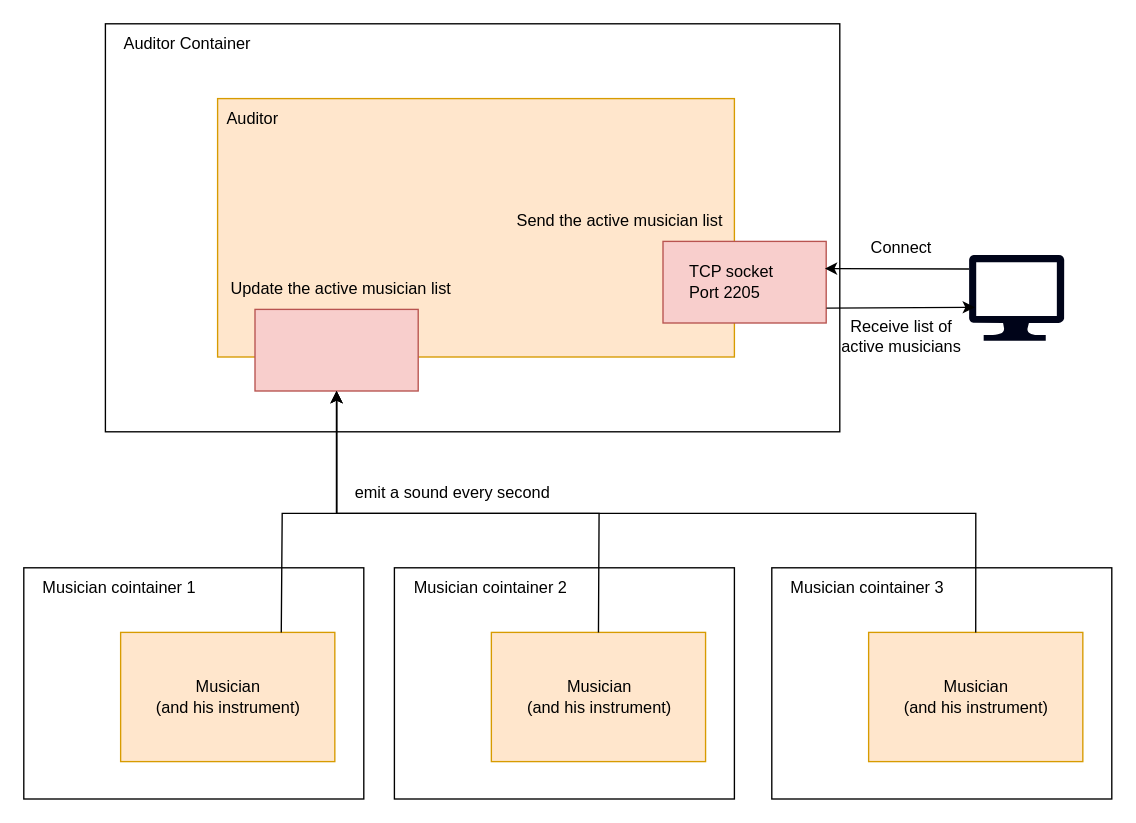
This 1136x823 diagram has some shape labels left out. Each missing label, with the box of its shape:
a nice PC: (968, 254, 1064, 340)
UDP socket Port 4242: (254, 308, 418, 391)
